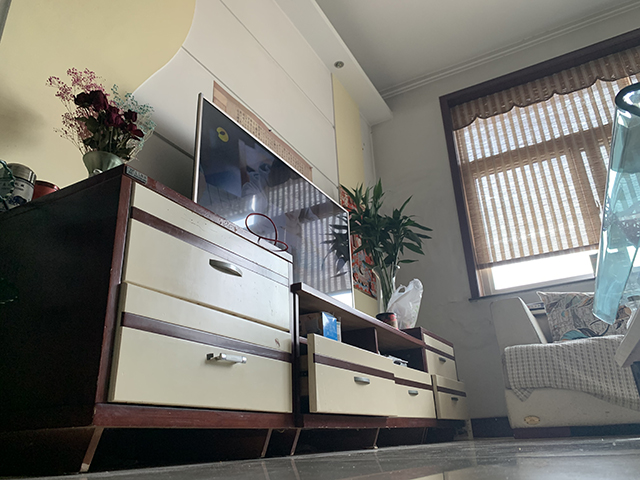cabinet: (1, 162, 476, 474)
sofa: (485, 289, 640, 439)
